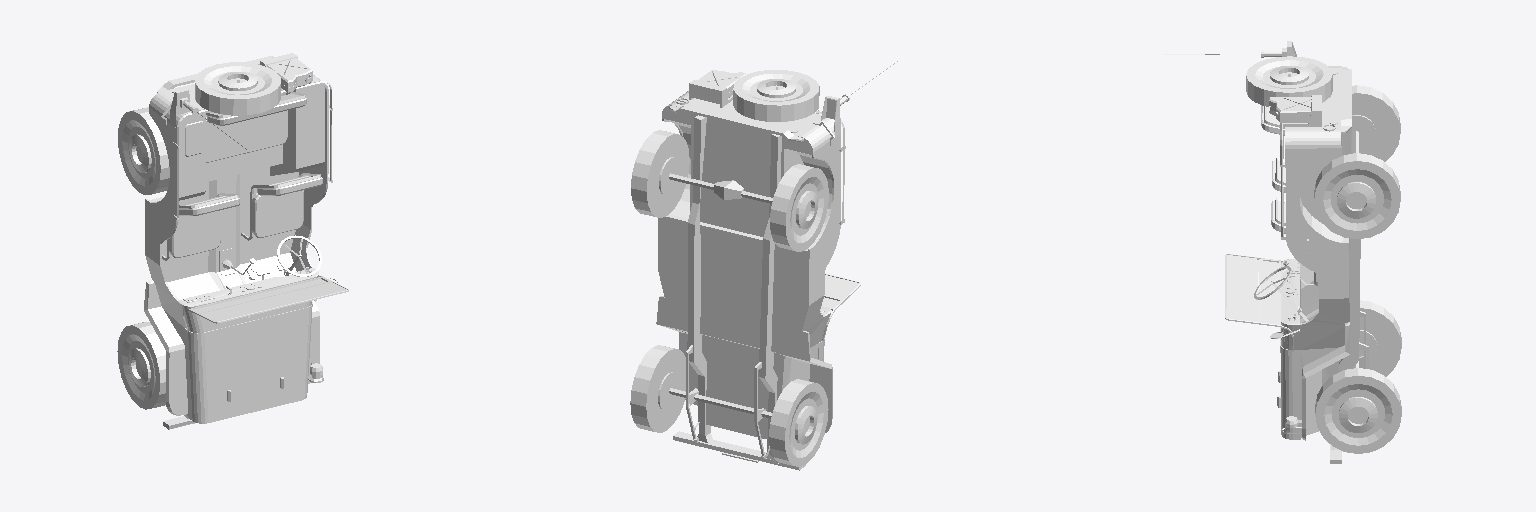
Rendered from jeepus.obj.
The picture shows the model from 3 angles: view 1: azimuth 30°, elevation 25°; view 2: azimuth 150°, elevation 25°; view 3: azimuth 270°, elevation 25°; orthographic projection.
Visible parts, largest first — view 1: Body_jeep_us, tyre_front1_pivot, tyre_rear1_pivot, wing, wing01; view 2: Body_jeep_us, tyre_front1_pivot, tyre_rear1_pivot, tyre_rear02_pivot, tyre_front02_pivot, wing, wing01; view 3: Body_jeep_us, tyre_rear02_pivot, tyre_front02_pivot, tyre_rear1_pivot, tyre_front1_pivot, wing01.
Boxes of the visible parts, x1=… form: Body_jeep_us: x1=145, y1=53, x2=348, y2=429; tyre_front1_pivot: x1=117, y1=322, x2=165, y2=409; tyre_rear1_pivot: x1=118, y1=107, x2=169, y2=194; wing: x1=144, y1=280, x2=187, y2=415; wing01: x1=308, y1=300, x2=319, y2=383; Body_jeep_us: x1=658, y1=61, x2=897, y2=470; tyre_front1_pivot: x1=769, y1=379, x2=828, y2=466; tyre_rear1_pivot: x1=770, y1=164, x2=828, y2=251; tyre_rear02_pivot: x1=631, y1=130, x2=689, y2=217; tyre_front02_pivot: x1=630, y1=345, x2=685, y2=432; wing: x1=794, y1=331, x2=832, y2=432; wing01: x1=656, y1=296, x2=697, y2=405; Body_jeep_us: x1=1164, y1=41, x2=1368, y2=463; tyre_rear02_pivot: x1=1314, y1=153, x2=1400, y2=238; tyre_front02_pivot: x1=1315, y1=368, x2=1401, y2=453; tyre_rear1_pivot: x1=1352, y1=85, x2=1400, y2=161; tyre_front1_pivot: x1=1359, y1=300, x2=1401, y2=376; wing01: x1=1302, y1=322, x2=1349, y2=440.
Bounding box in the file's own units: 82.66 × 175 × 108.